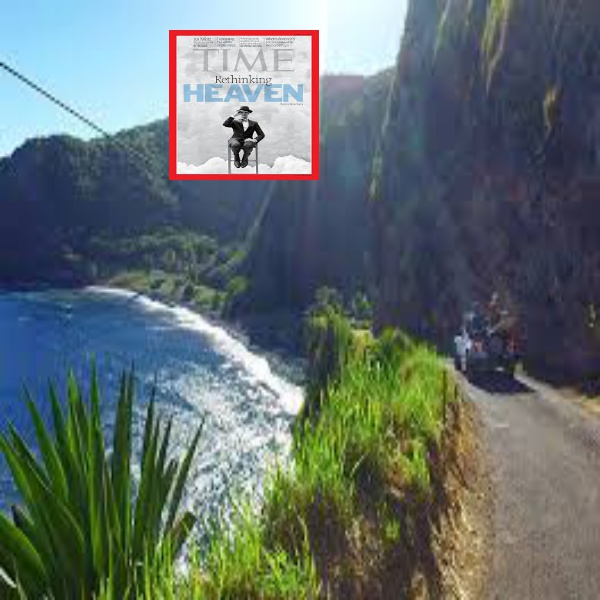time_cover: (163, 21, 327, 181)
